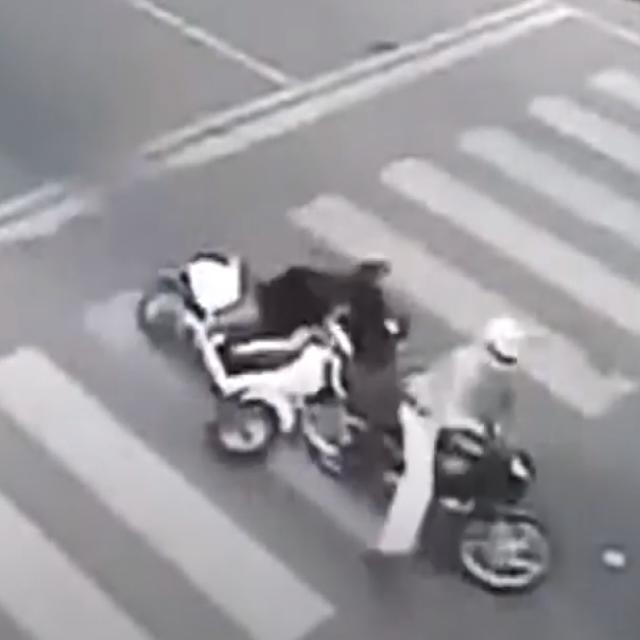accident: (138, 250, 552, 594)
